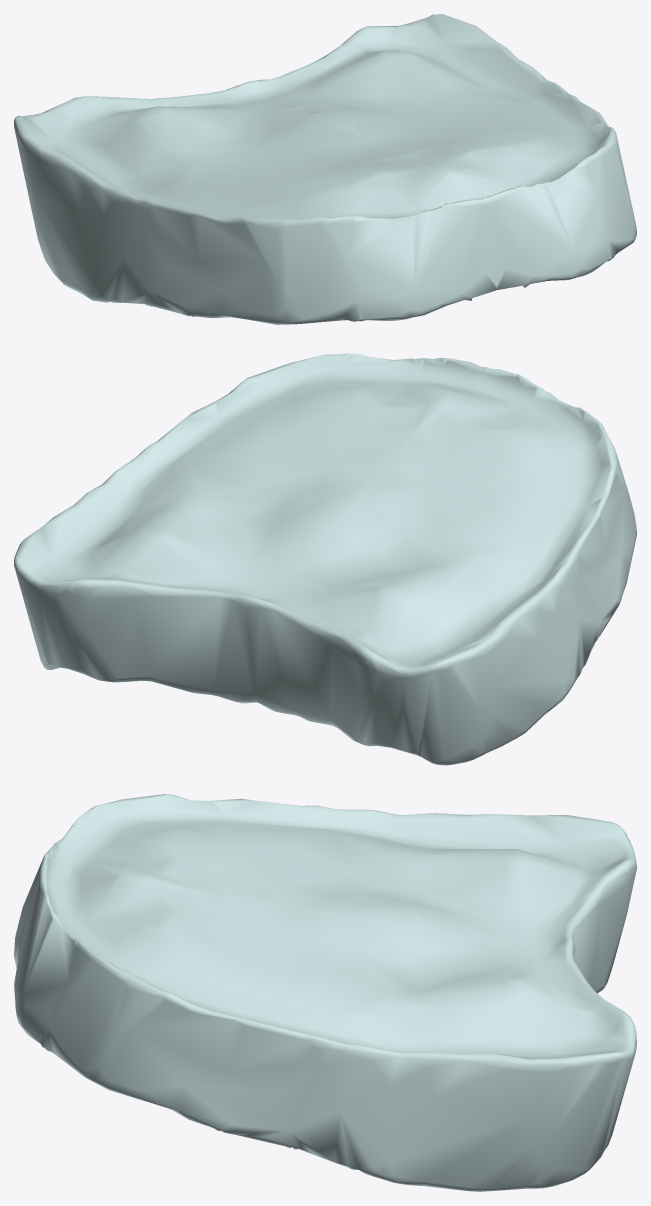
The model's file is Intervertebral_disc_T7-T8_Generated_Mesh_From_X3D.057.glb.
The picture shows the model from 3 angles, top to bottom: view 1: azimuth 30°, elevation 25°; view 2: azimuth 150°, elevation 25°; view 3: azimuth 270°, elevation 25°; orthographic projection. The views are drawn at different scales.
Parts seen in each view (by area): view 1: Intervertebral_disc_T7-T8_Generated_Mesh_From_X3D.057; view 2: Intervertebral_disc_T7-T8_Generated_Mesh_From_X3D.057; view 3: Intervertebral_disc_T7-T8_Generated_Mesh_From_X3D.057.
Part boxes in pixels (x1,y1,x2,y2): Intervertebral_disc_T7-T8_Generated_Mesh_From_X3D.057: (14,14,636,324); Intervertebral_disc_T7-T8_Generated_Mesh_From_X3D.057: (14,353,636,765); Intervertebral_disc_T7-T8_Generated_Mesh_From_X3D.057: (14,794,636,1191).
Size of the model in its own units: 0.0358 by 0.013 by 0.0367.
